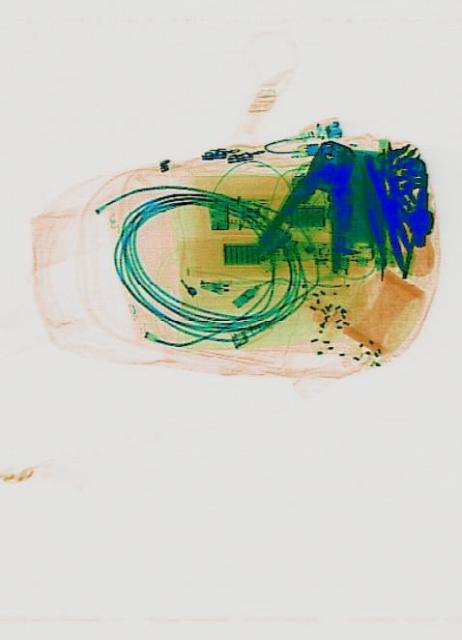Pliers: (260, 123, 371, 281)
